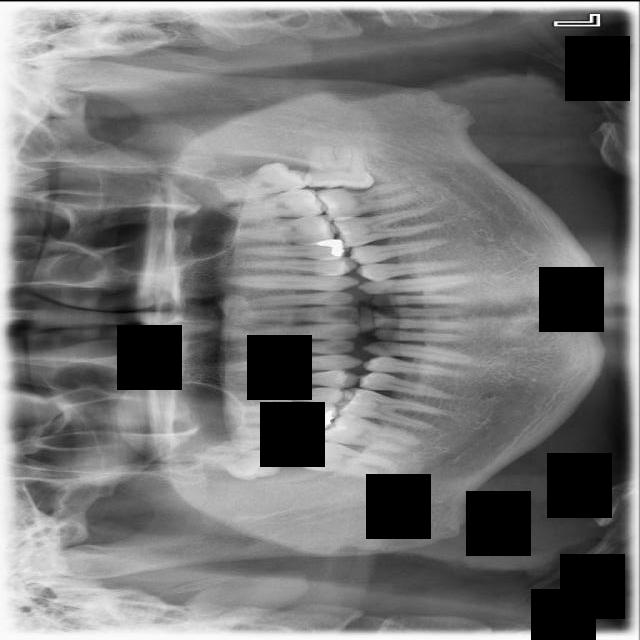3M ESPE Implant: (192, 441, 292, 483)
52: (332, 385, 383, 418), (286, 403, 339, 430), (306, 240, 350, 260)
73: (556, 36, 562, 40)
BioHorizons Implant: (216, 186, 325, 227)
BioLife Implant: (204, 156, 315, 204)
Biomet 3i Implant: (301, 142, 375, 192)
Blue Sky Bio Implant: (313, 180, 424, 224)
Caries: (212, 423, 324, 457)
Implant: (320, 409, 424, 456)
Keystone Dental Implant: (297, 435, 402, 484)
